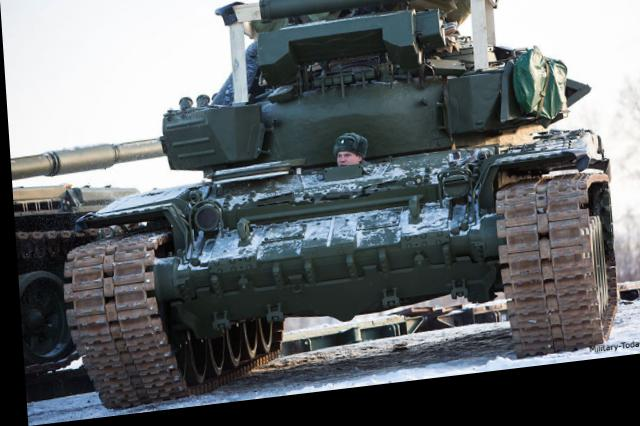other: (326, 139, 366, 175)
tank: (61, 0, 611, 408)
